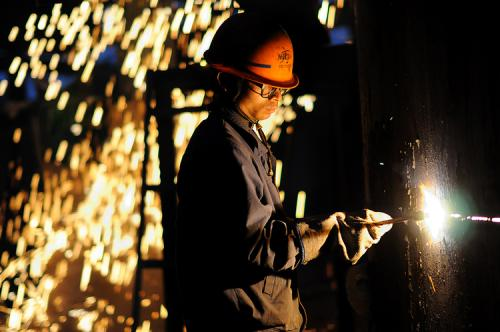gloves: (297, 211, 382, 268)
hard-hat: (203, 11, 300, 89)
person: (174, 10, 393, 331)
ppe-suit: (173, 106, 311, 331)
